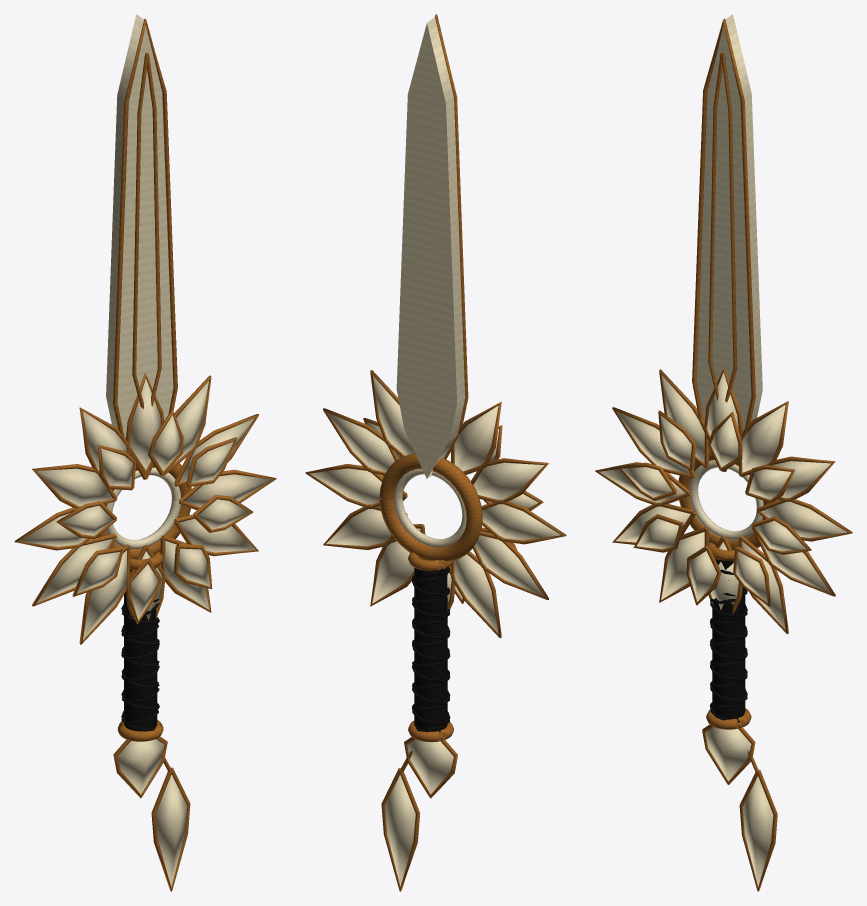
Rendered from stowed.glb.
The picture shows the model from 3 angles, left to right: view 1: azimuth 30°, elevation 25°; view 2: azimuth 150°, elevation 25°; view 3: azimuth 330°, elevation 25°; orthographic projection.
Visible parts, largest first — view 1: Folded_ivory_blade_carried_snapshot, Gold_blade_edge_carried_snapshot, Grey_woven_grip_carried_snapshot, Hanging_enamel_charm_carried_snapshot, Lotus_petal.010_carried_snapshot, Pommel_crystal_carried_snapshot, Blade_gold_inlay_carried_snapshot, Blade_gold_inlay.001_carried_snapshot, Lotus_petal_carried_snapshot, Lotus_petal.003_carried_snapshot, Inner_enamel_circle_carried_snapshot, Lotus_petal.004_carried_snapshot (+40 smaller); view 2: Folded_ivory_blade_carried_snapshot, Open_lotus_gold_core_carried_snapshot, Grey_woven_grip_carried_snapshot, Hanging_enamel_charm_carried_snapshot, Lotus_petal.010_carried_snapshot, Lotus_petal.011_carried_snapshot, Lotus_petal.009_carried_snapshot, Lotus_petal.008_carried_snapshot, Gold_blade_edge_carried_snapshot, Lotus_petal.007_carried_snapshot, Lotus_petal.002_carried_snapshot, Lotus_petal.003_carried_snapshot (+18 smaller); view 3: Folded_ivory_blade_carried_snapshot, Gold_blade_edge_carried_snapshot, Grey_woven_grip_carried_snapshot, Hanging_enamel_charm_carried_snapshot, Lotus_petal.001_carried_snapshot, Blade_gold_inlay.001_carried_snapshot, Pommel_crystal_carried_snapshot, Lotus_petal.003_carried_snapshot, Blade_gold_inlay_carried_snapshot, Inner_enamel_circle_carried_snapshot, Lotus_petal.011_carried_snapshot, Lotus_petal.010_carried_snapshot (+39 smaller).
Part boxes in pixels (bbox=[...]): Folded_ivory_blade_carried_snapshot: bbox=[106, 14, 173, 437]; Gold_blade_edge_carried_snapshot: bbox=[113, 18, 177, 479]; Grey_woven_grip_carried_snapshot: bbox=[124, 567, 157, 731]; Hanging_enamel_charm_carried_snapshot: bbox=[156, 774, 187, 886]; Lotus_petal.010_carried_snapshot: bbox=[36, 468, 112, 506]; Pommel_crystal_carried_snapshot: bbox=[117, 739, 164, 793]; Blade_gold_inlay_carried_snapshot: bbox=[132, 52, 147, 408]; Blade_gold_inlay.001_carried_snapshot: bbox=[146, 52, 161, 406]; Lotus_petal_carried_snapshot: bbox=[129, 378, 161, 469]; Lotus_petal.003_carried_snapshot: bbox=[185, 474, 271, 507]; Inner_enamel_circle_carried_snapshot: bbox=[106, 467, 180, 549]; Lotus_petal.004_carried_snapshot: bbox=[179, 518, 255, 552]; Folded_ivory_blade_carried_snapshot: bbox=[396, 17, 465, 478]; Open_lotus_gold_core_carried_snapshot: bbox=[379, 453, 482, 561]; Grey_woven_grip_carried_snapshot: bbox=[414, 558, 447, 732]; Hanging_enamel_charm_carried_snapshot: bbox=[385, 775, 415, 886]; Lotus_petal.010_carried_snapshot: bbox=[473, 462, 544, 499]; Lotus_petal.011_carried_snapshot: bbox=[454, 405, 498, 471]; Lotus_petal.009_carried_snapshot: bbox=[482, 504, 560, 540]; Lotus_petal.008_carried_snapshot: bbox=[475, 535, 543, 596]; Gold_blade_edge_carried_snapshot: bbox=[434, 14, 468, 459]; Lotus_petal.007_carried_snapshot: bbox=[454, 554, 498, 632]; Lotus_petal.002_carried_snapshot: bbox=[327, 412, 394, 472]; Lotus_petal.003_carried_snapshot: bbox=[310, 468, 381, 504]; Folded_ivory_blade_carried_snapshot: bbox=[696, 14, 762, 430]; Gold_blade_edge_carried_snapshot: bbox=[692, 18, 755, 471]; Grey_woven_grip_carried_snapshot: bbox=[712, 560, 745, 720]; Hanging_enamel_charm_carried_snapshot: bbox=[742, 776, 773, 886]; Lotus_petal.001_carried_snapshot: bbox=[742, 404, 785, 472]; Blade_gold_inlay.001_carried_snapshot: bbox=[721, 52, 737, 402]; Pommel_crystal_carried_snapshot: bbox=[705, 727, 751, 780]; Lotus_petal.003_carried_snapshot: bbox=[761, 501, 847, 537]; Blade_gold_inlay_carried_snapshot: bbox=[708, 52, 722, 400]; Inner_enamel_circle_carried_snapshot: bbox=[689, 460, 763, 540]; Lotus_petal.011_carried_snapshot: bbox=[661, 375, 704, 463]; Lotus_petal.010_carried_snapshot: bbox=[616, 411, 690, 474].
Bounding box in the file's own units: 0.4315 × 1.39 × 0.092.
3 materials, 3 textured.
